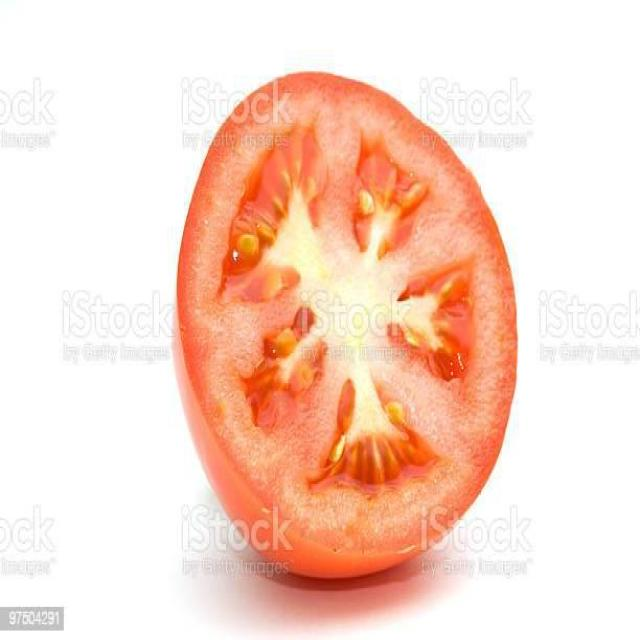Tomato: (174, 70, 520, 594)
